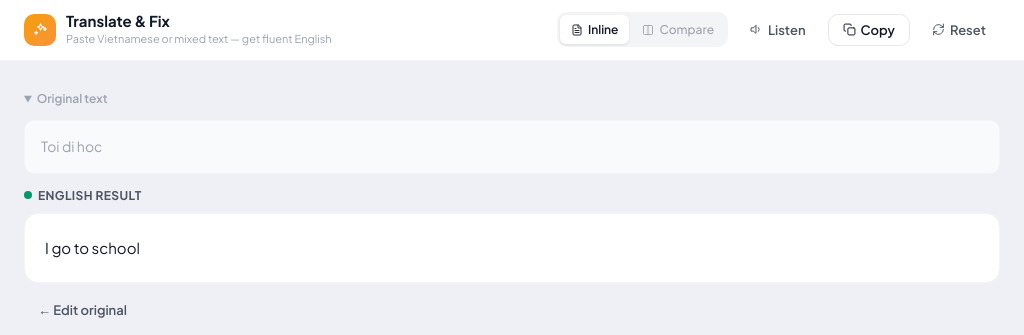
Scenario: EditorPage compare view toggle › switches back to inline view from compare
Step 1. Click the button "Compare" → (678, 30), box [632, 15, 725, 44]
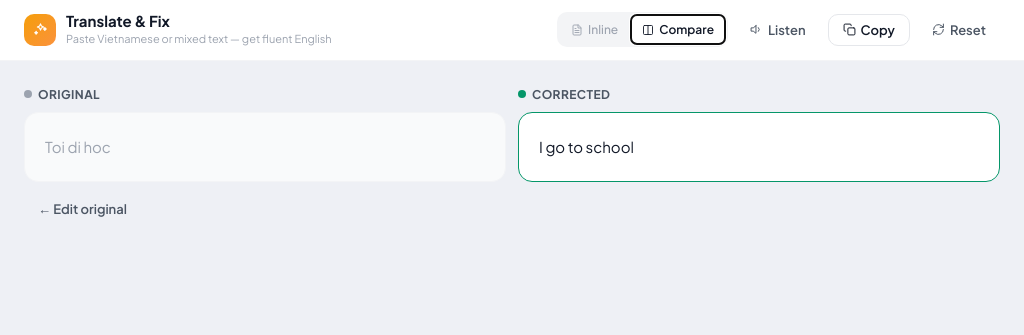
Step 2. Click the button "Inline" → (595, 30), box [560, 15, 629, 44]
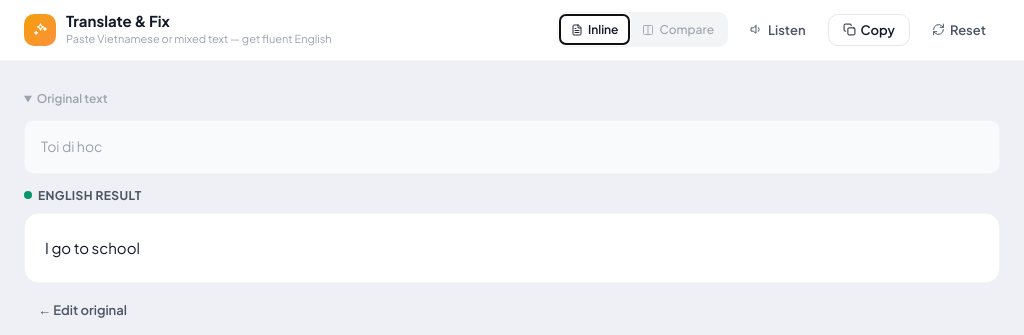
Expected: the text "English Result" is shown, [38, 186, 142, 205]
Expected: the text "Corrected" is gone
